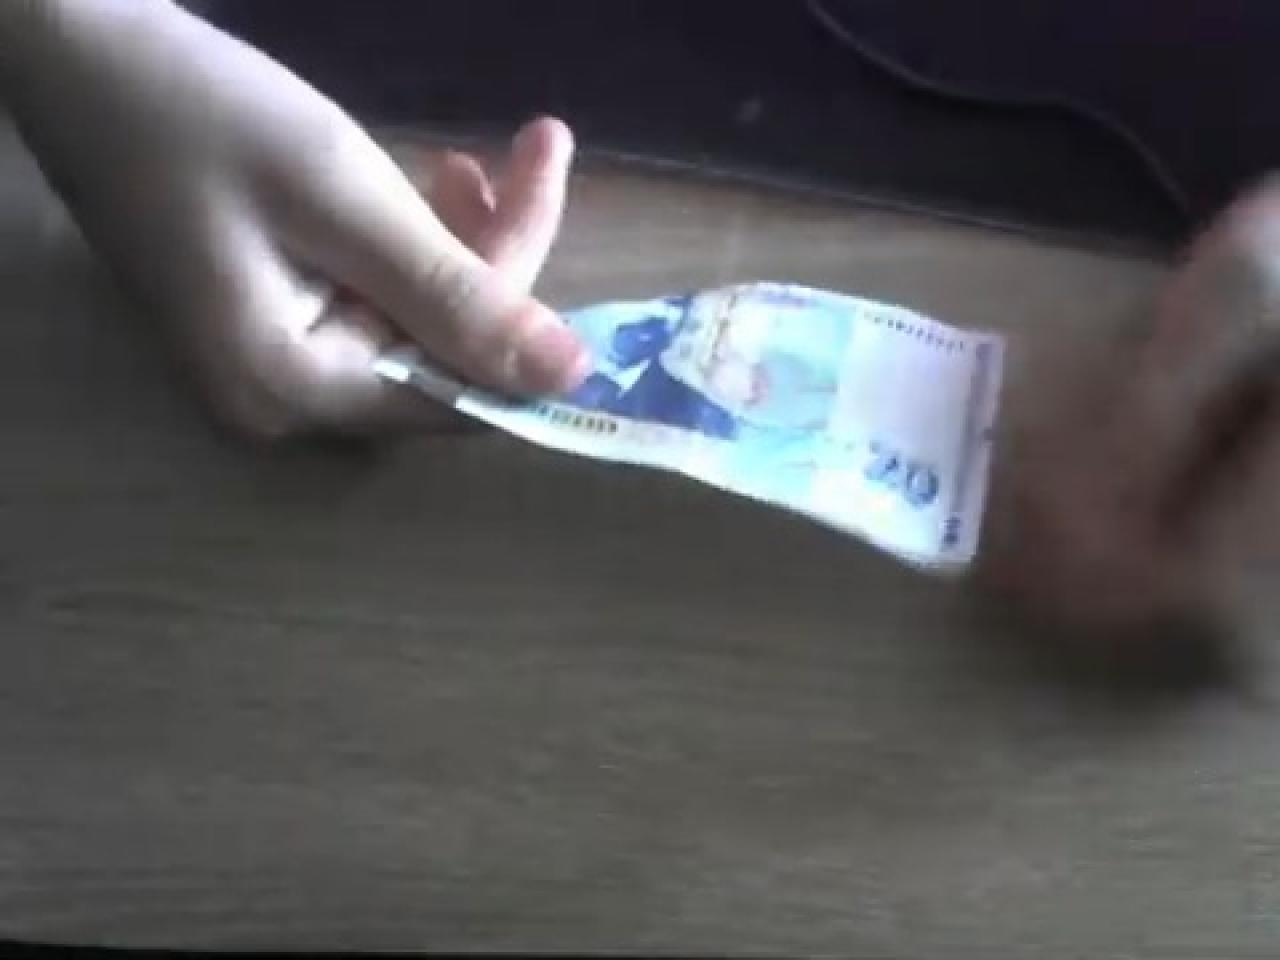20leva: (416, 282, 1005, 581)
